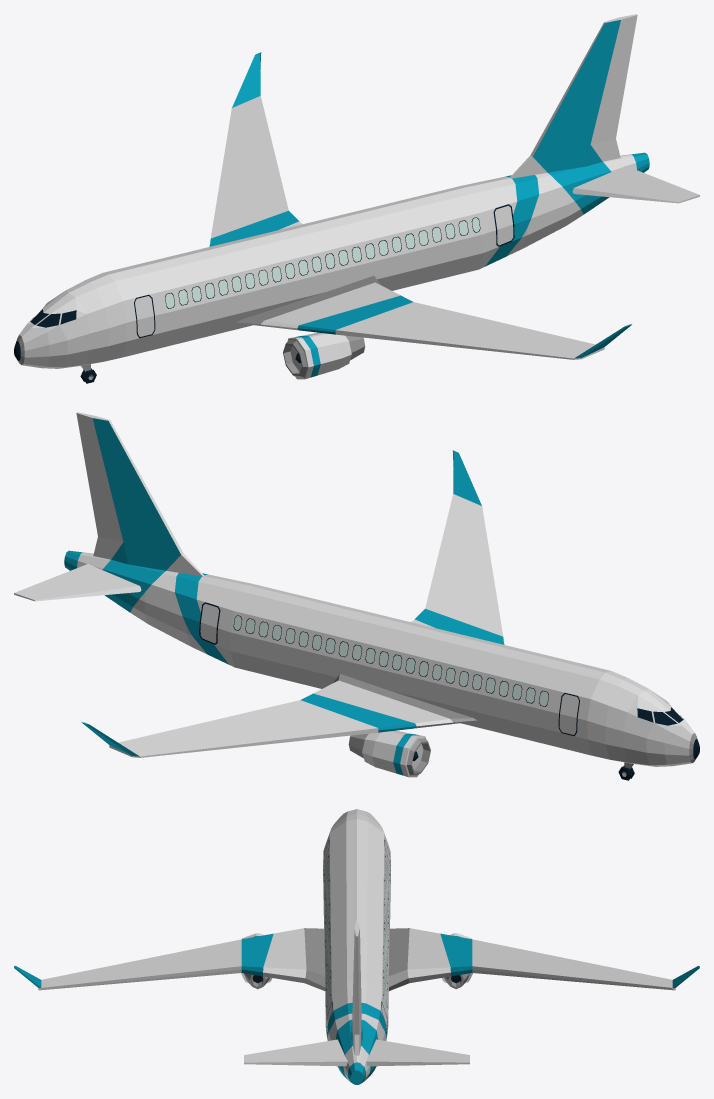
File: airplane.glb
The picture shows the model from 3 angles, top to bottom: view 1: azimuth 30°, elevation 25°; view 2: azimuth 150°, elevation 25°; view 3: azimuth 270°, elevation 25°; orthographic projection. The views are drawn at different scales.
Visible parts, largest first — view 1: Cube; view 2: Cube; view 3: Cube.
Boxes of the visible parts, x1,y1,x2,y2 form: Cube: (14, 14, 699, 379); Cube: (14, 412, 699, 777); Cube: (14, 809, 699, 1084).
Size of the model in its own units: 2.01 by 0.7214 by 2.05.
